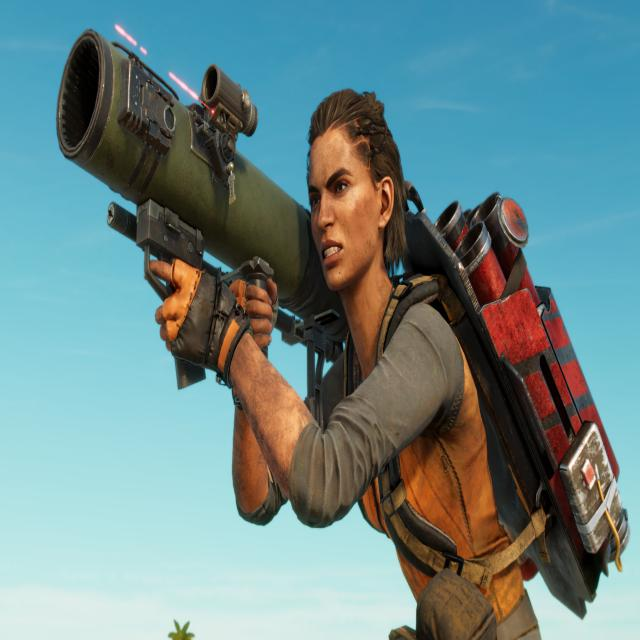bazooka: (11, 1, 399, 409)
